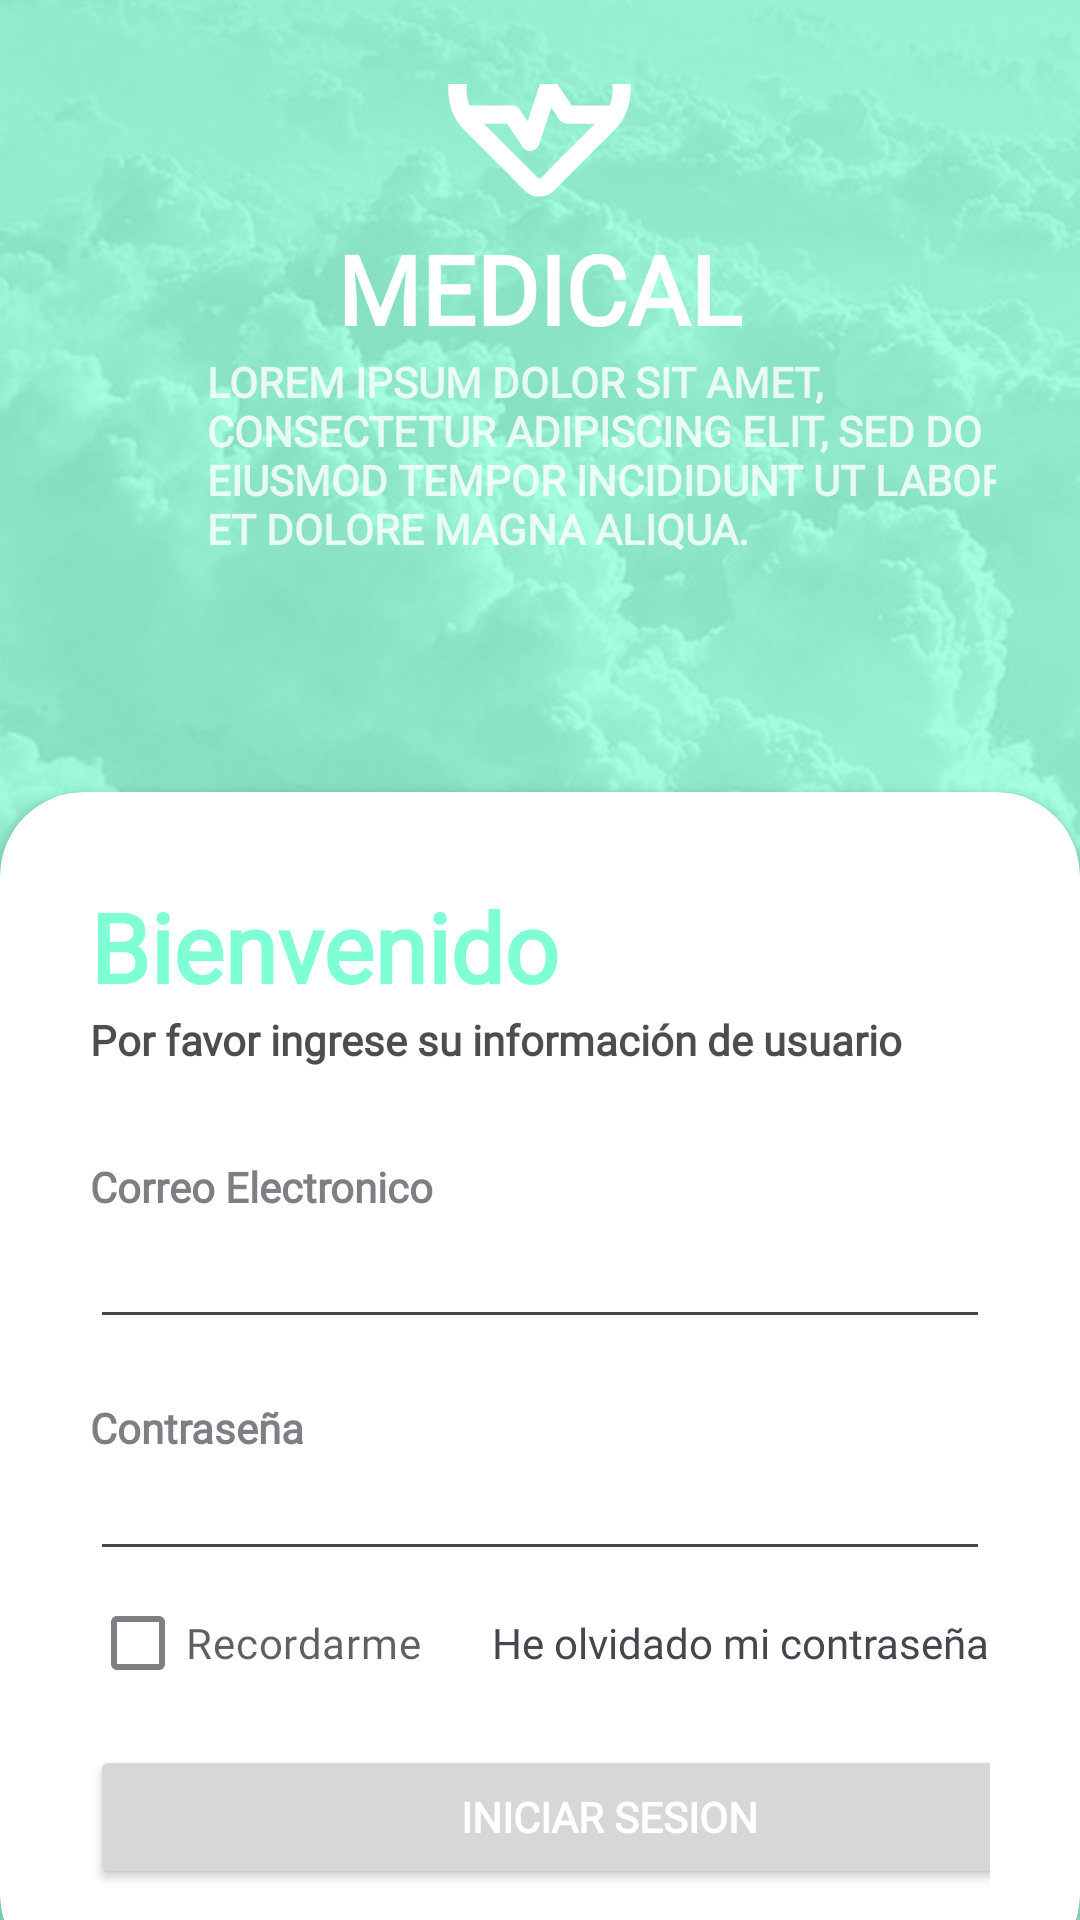

Screen size 1080px x 1920px. Icon name, then its center in pixels as [x,y]:
ecg heart: [539,140]
